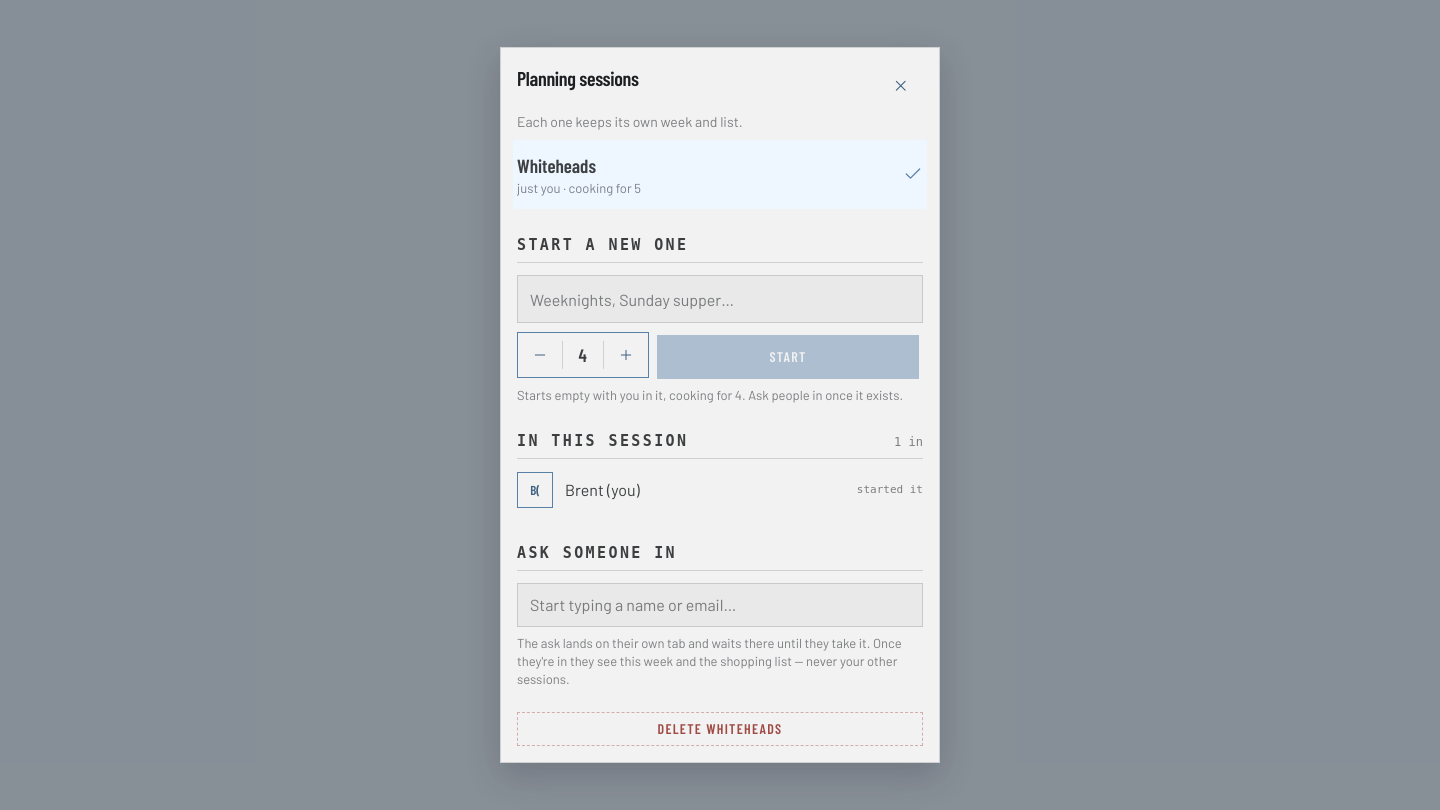
Test: finding someone › matches a first name
This screenshot has width=1440, height=810.
In the search field named "search people": (720, 605) top-left (517, 583), bottom-right (923, 627), type "kaylee"
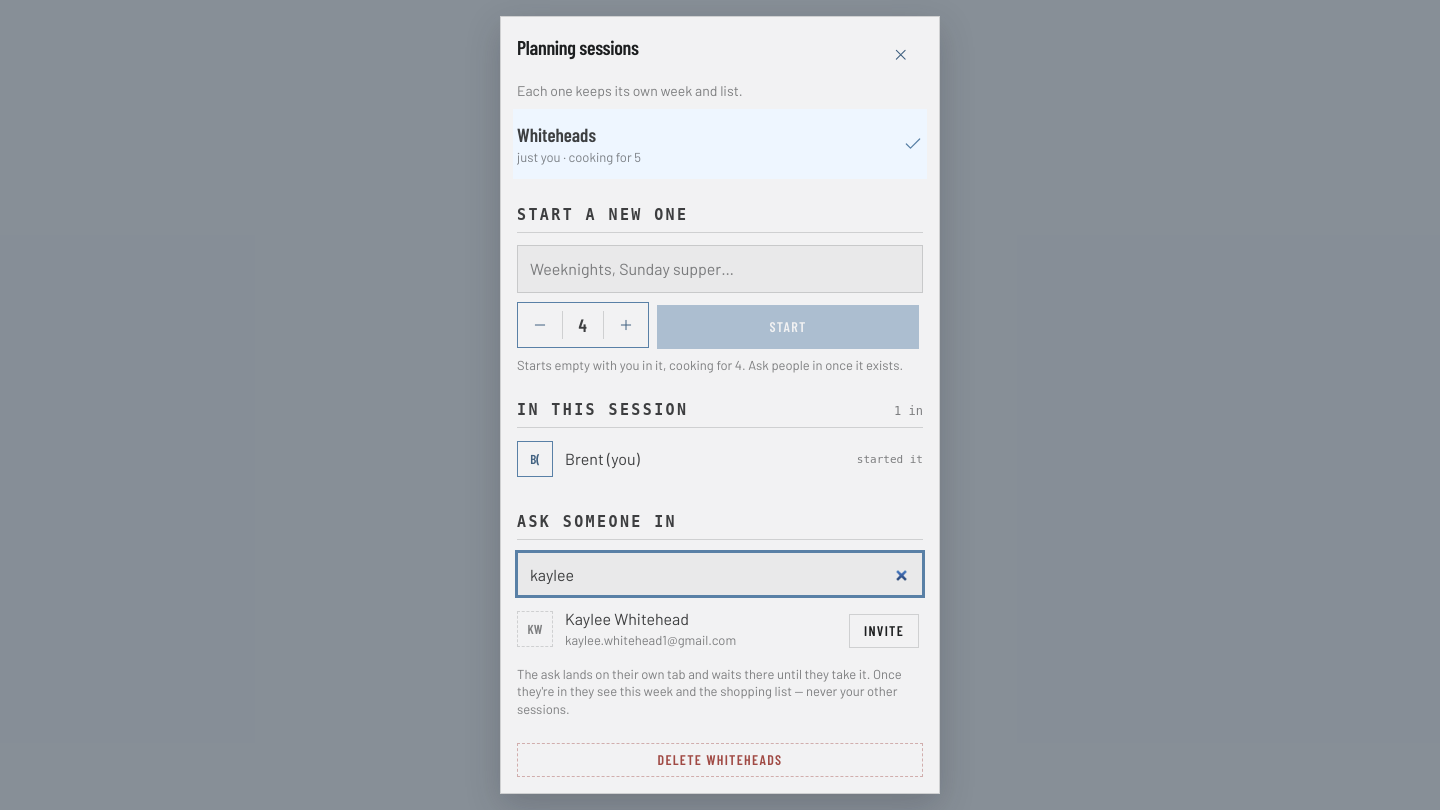
Check: the button with aria-label "kaylee.whitehead1" is shown, box top-left (849, 614), bottom-right (919, 648)
